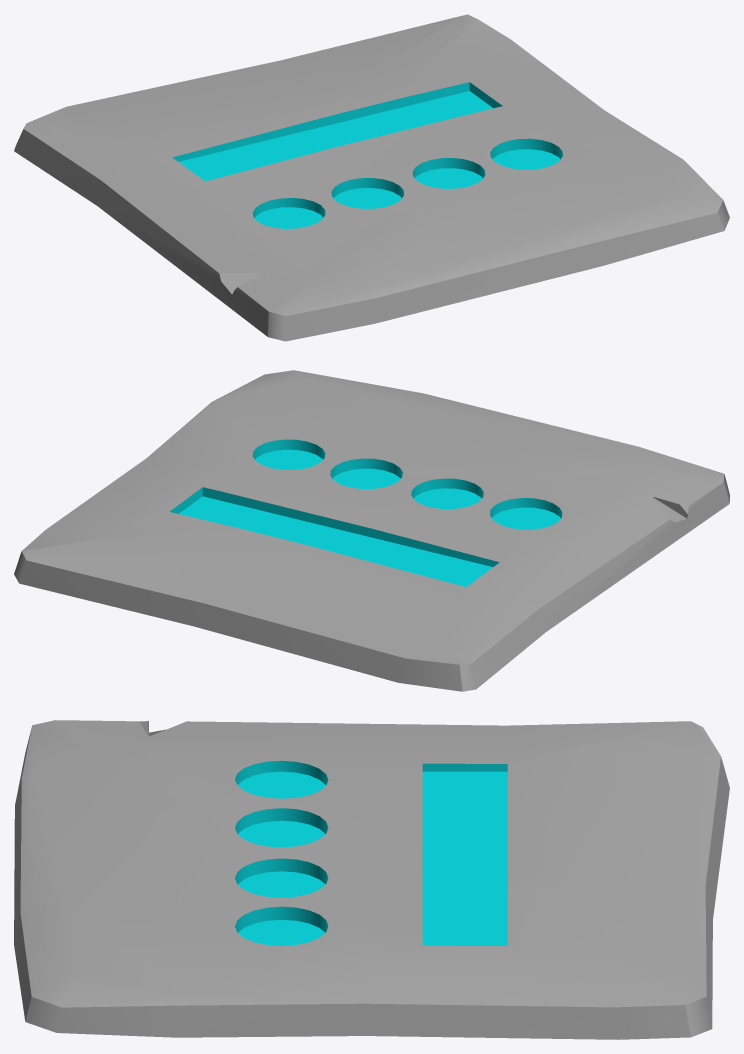
Rendered from dalle9.fbx.
3 views of the same model, one above another, from view 1: azimuth 30°, elevation 25°; view 2: azimuth 150°, elevation 25°; view 3: azimuth 270°, elevation 25° (orthographic). The views are drawn at different scales.
Visible parts, largest first — view 1: pCube5; view 2: pCube5; view 3: pCube5.
Part boxes in pixels (left/top/right/bottom): pCube5: left=14, top=14, right=729, bottom=341; pCube5: left=14, top=370, right=729, bottom=691; pCube5: left=14, top=720, right=729, bottom=1039.
Size of the model in its own units: 6.99 by 0.4395 by 7.18.
